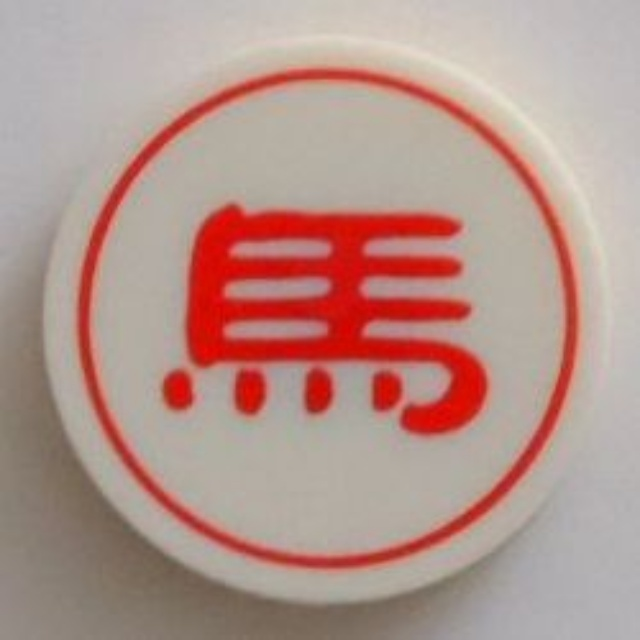red_ma: (42, 32, 621, 613)
